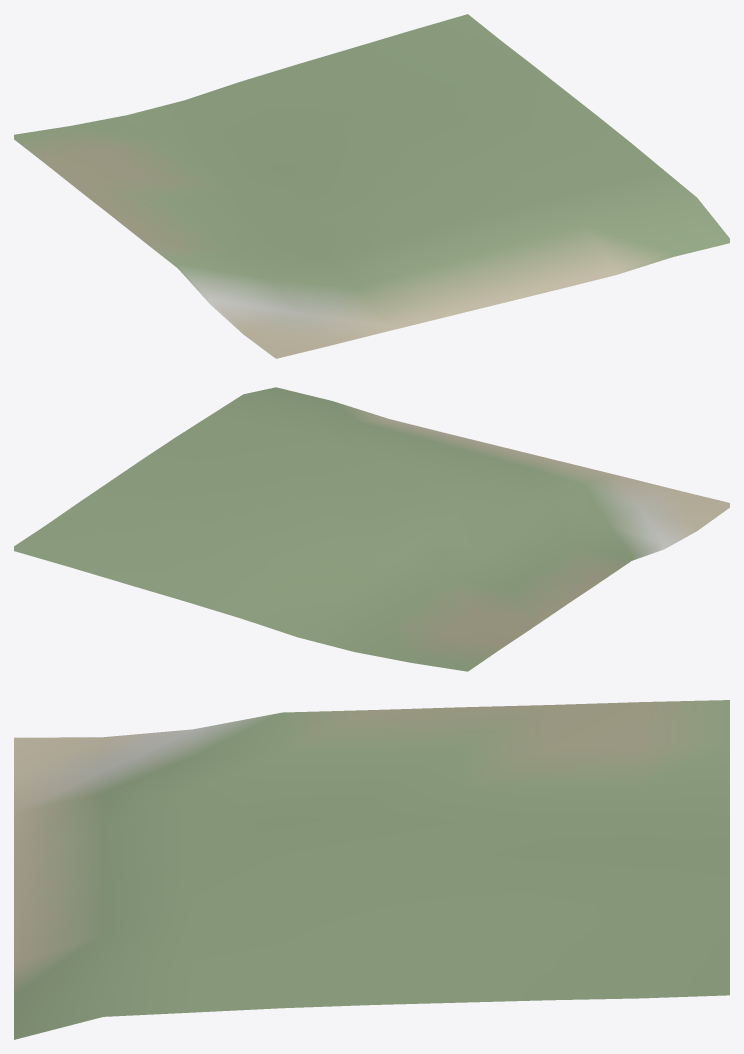
3 renders of one model, top to bottom at view 1: azimuth 30°, elevation 25°; view 2: azimuth 150°, elevation 25°; view 3: azimuth 270°, elevation 25°, orthographic. The views are drawn at different scales.
Visible parts, largest first — view 1: prim0; view 2: prim0; view 3: prim0.
Boxes of the visible parts, x1,y1,x2,y2 form: prim0: (14, 14, 729, 358); prim0: (14, 387, 729, 671); prim0: (14, 700, 729, 1039).
Size of the model in its own units: 512 by 45.61 by 512.
